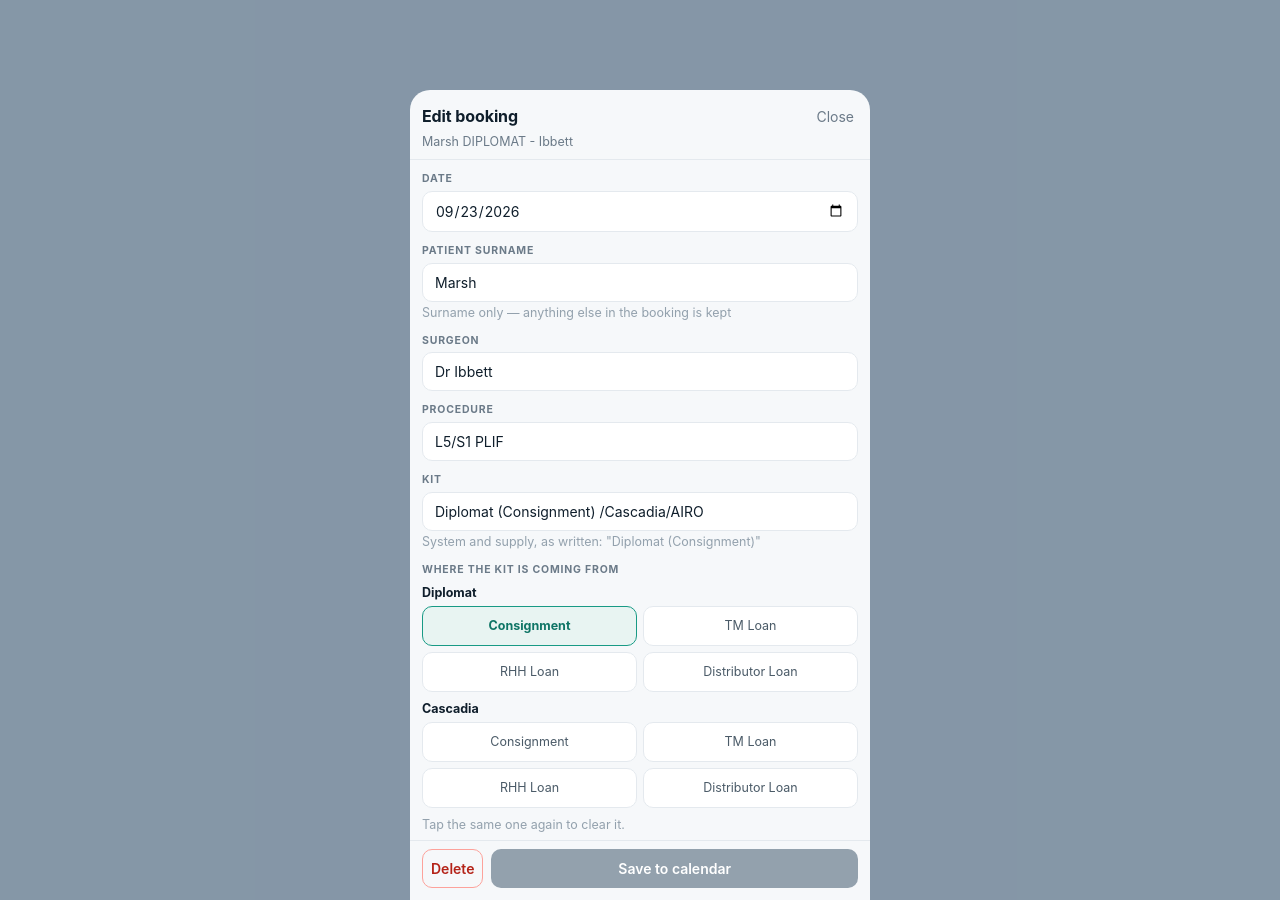
deleting a booking › asks first
Expected: the field showing "L5/S1 PLIF" is shown, [422,422,858,461]
Click the button with aria-label "Delete booking": point(453, 868) [422,849,483,888]
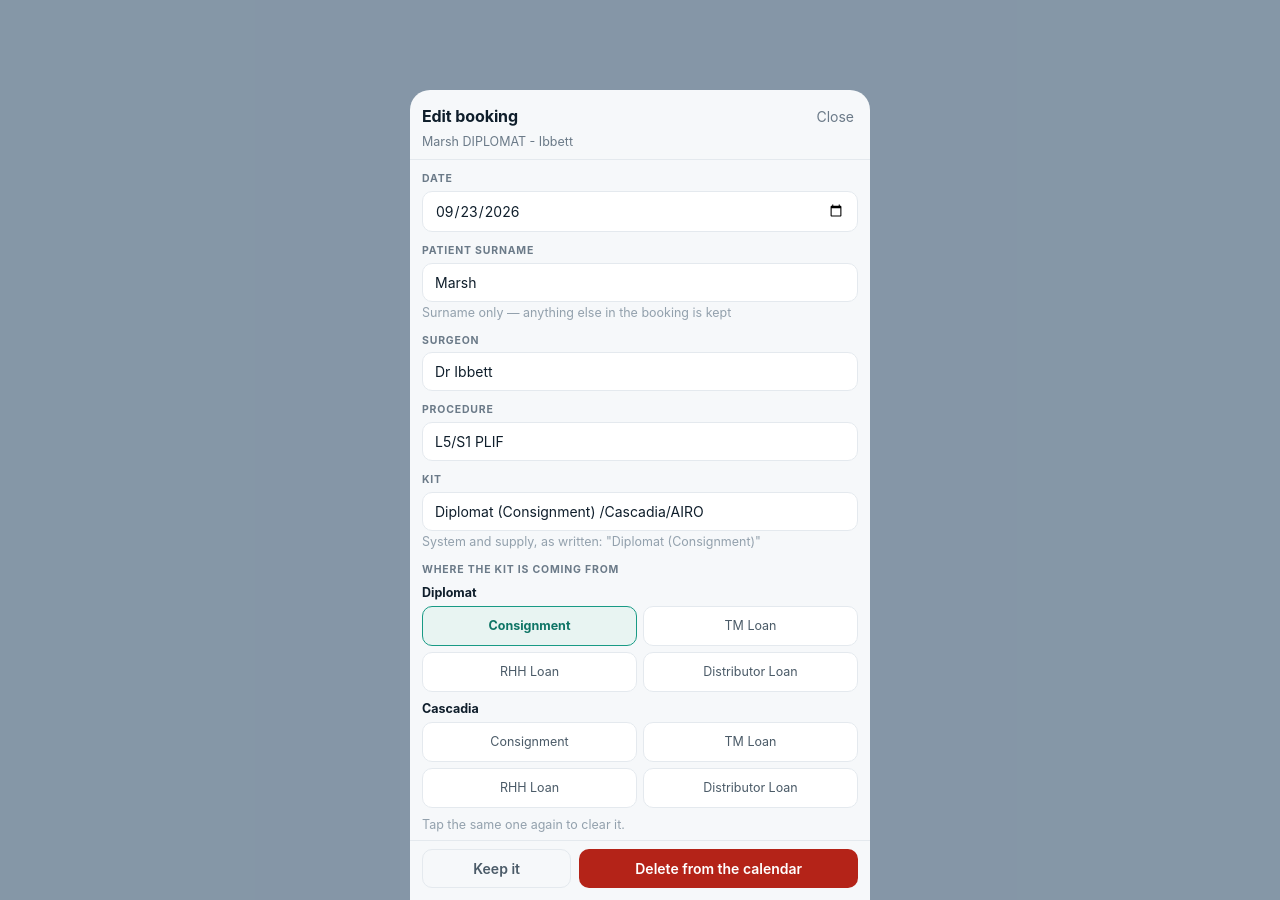
Result: the button "Delete from the calendar" is shown at [579,849,858,888]
Result: the button "Keep it" is shown at [422,849,571,888]
